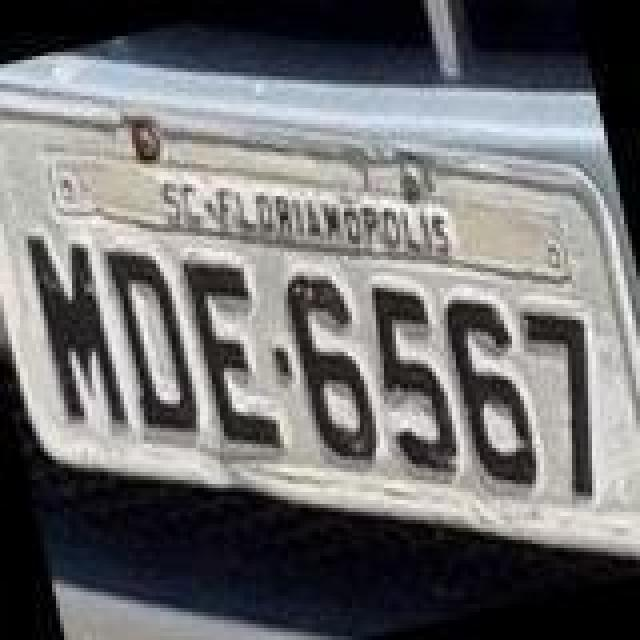5: (360, 274, 464, 486)
6: (442, 286, 550, 498), (280, 262, 384, 474)
7: (520, 294, 624, 506)
D: (100, 236, 204, 444)
E: (178, 248, 286, 464)
M: (22, 220, 130, 436)
